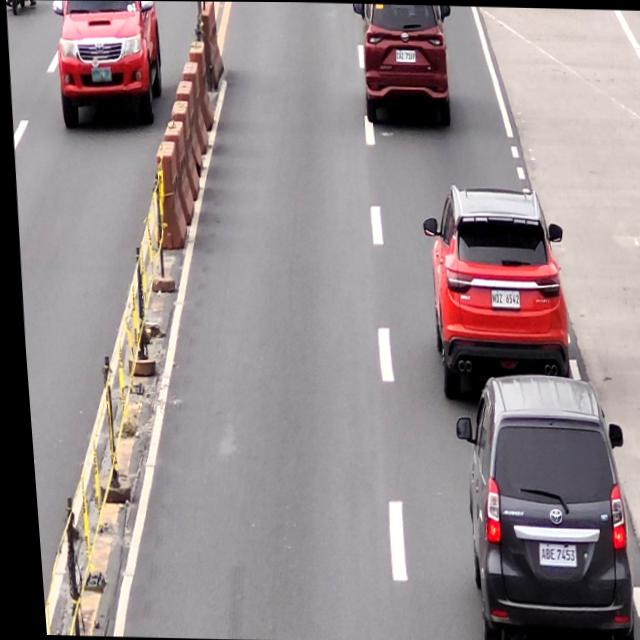Car: (442, 370, 631, 640), (415, 183, 569, 401), (349, 3, 458, 127)
License-Plate: (530, 541, 568, 566), (486, 286, 517, 309), (394, 49, 416, 63)
